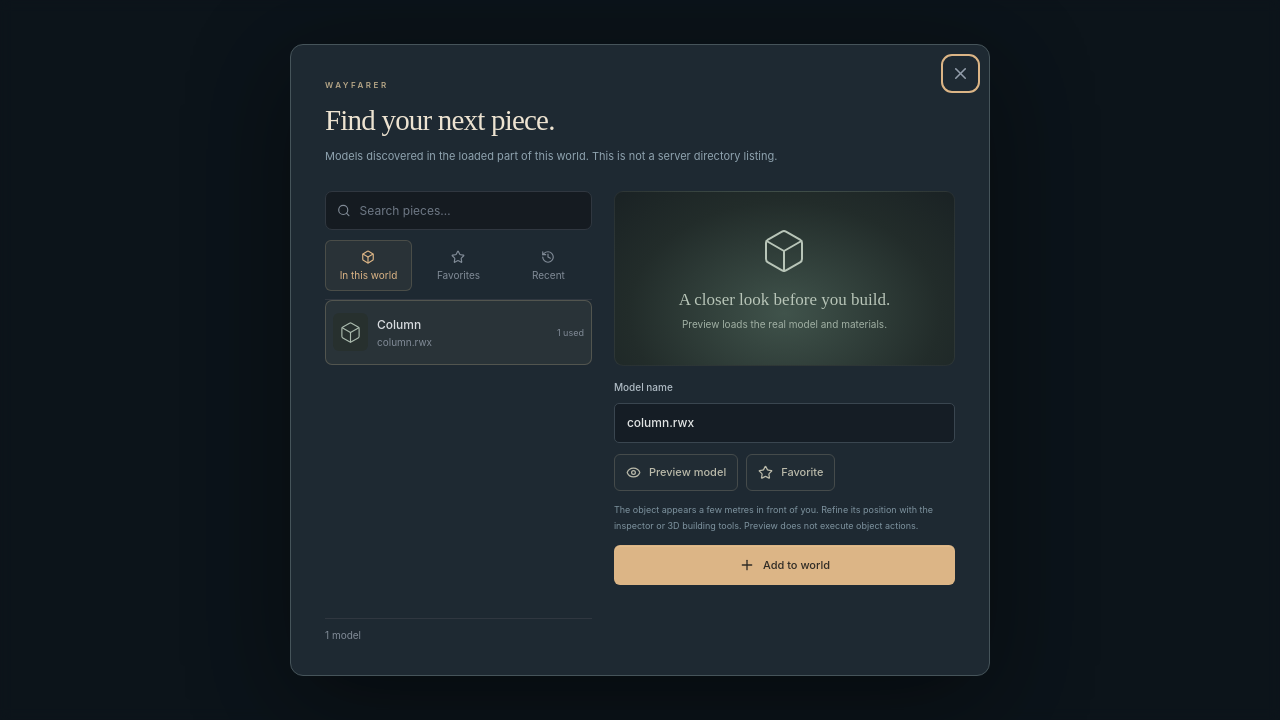
Scenario: loaded model catalog UI › shows only the current world favorites and recent models
The image size is (1280, 720).
Step 1. Click the tab "Favorites" → [458, 265], box [415,240,502,291]
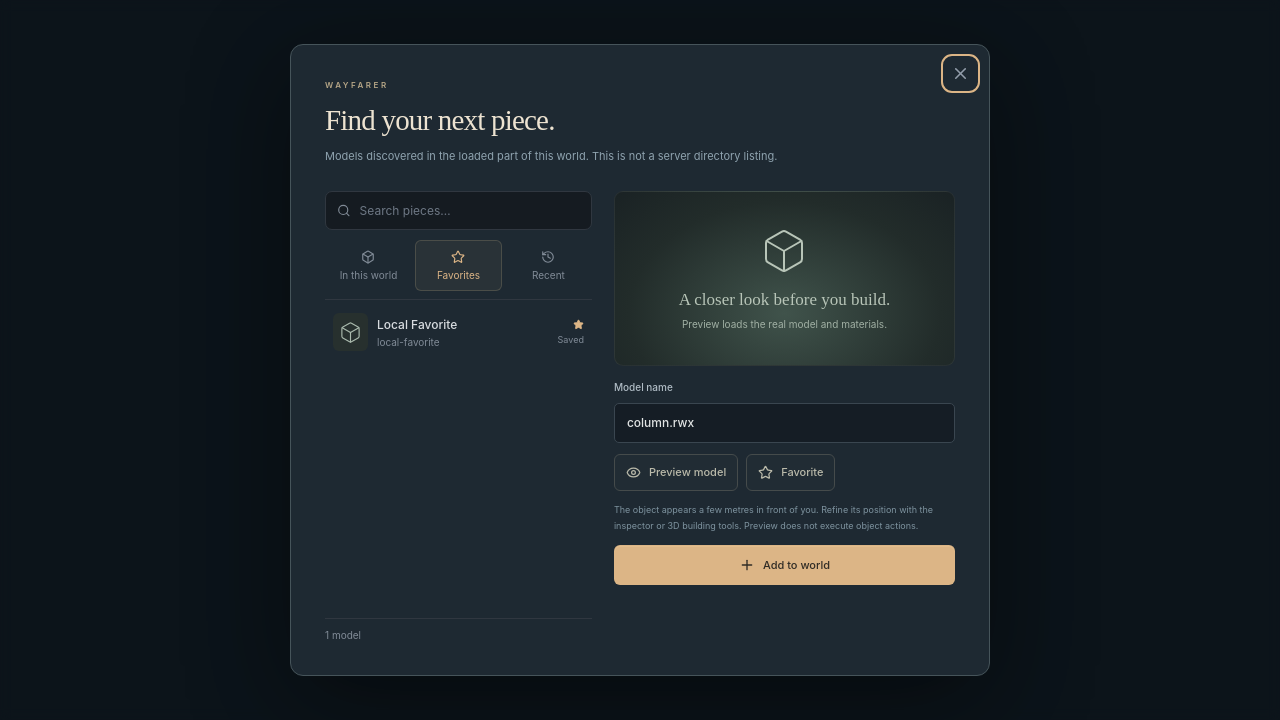
Expected: the text "local-favorite" is shown, [377,336,440,348]
Step 2. Click the tab "Recent" → [548, 265], box [505,240,592,291]
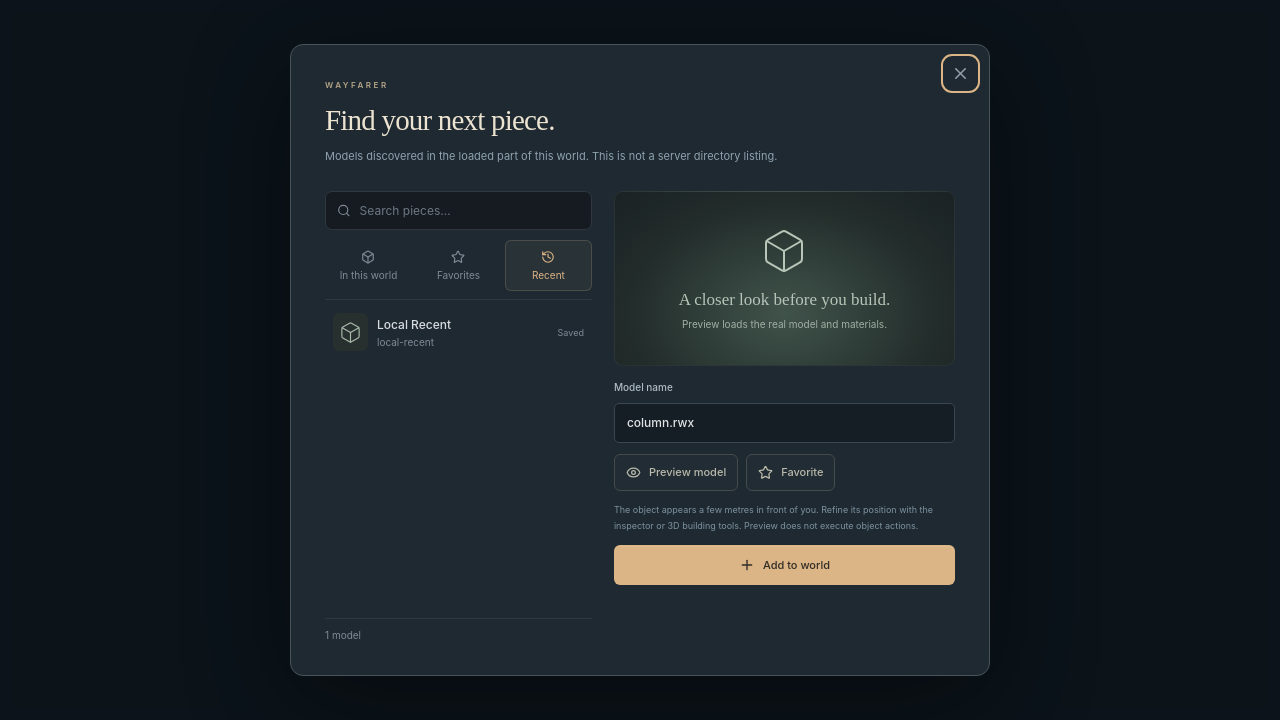
Expected: the text "local-recent" is shown, [377,336,434,348]
